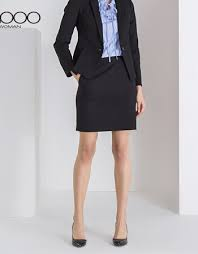F_tailored skirt: (70, 52, 143, 137)
